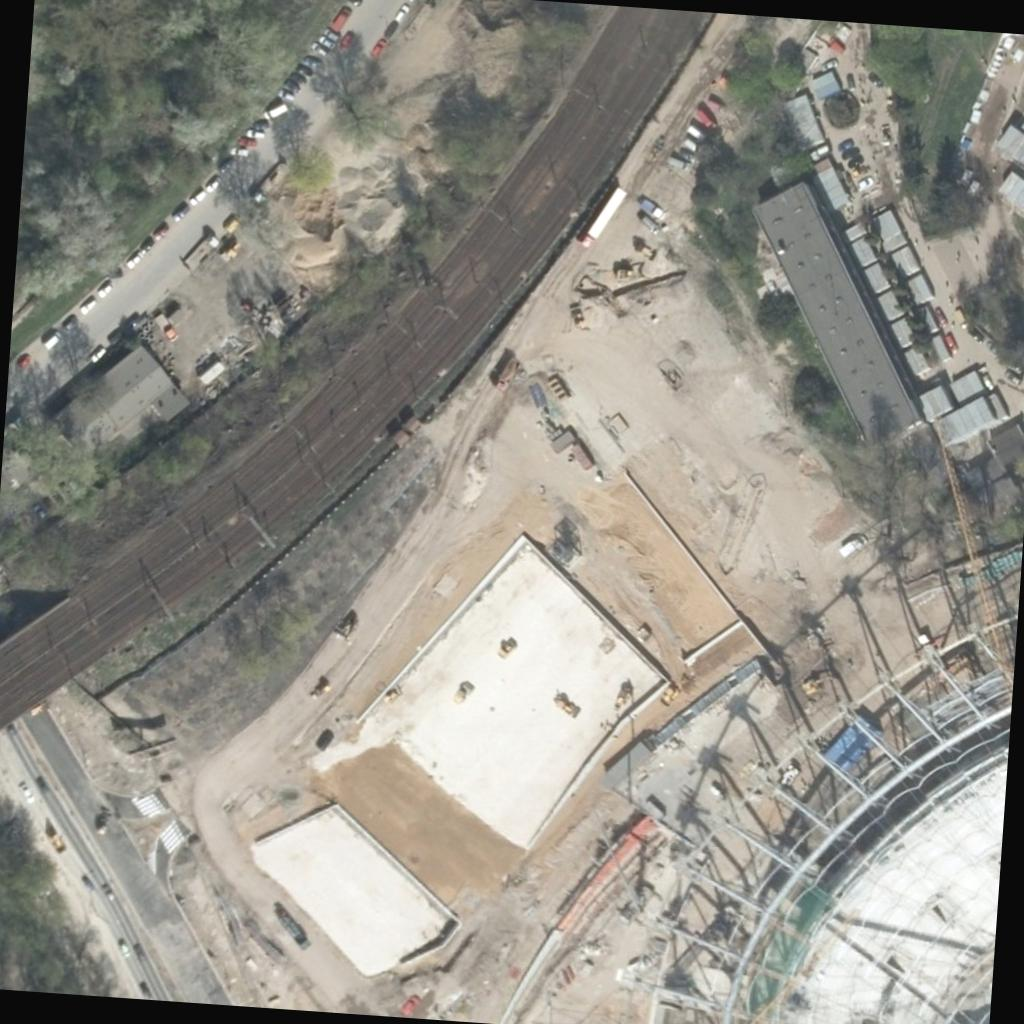ciezarowka: (578, 182, 630, 257)
samochod_osobowy: (834, 532, 874, 563), (494, 356, 521, 394)
walec: (546, 687, 584, 723), (448, 678, 477, 708), (494, 633, 520, 662), (611, 684, 634, 712)
zuraw_wiezowy: (905, 398, 1024, 693), (740, 896, 868, 1024)
